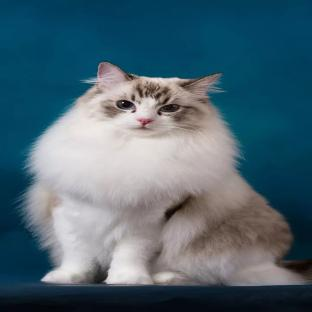Animal: (23, 62, 312, 286)
